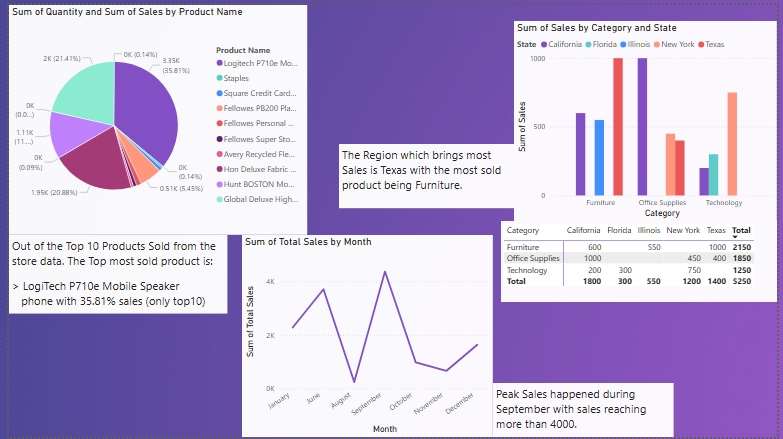

The dashboard page shown, as its layout file describes it:
{"tool":"powerbi","page":{"name":"Data","canvas":[1280,720],"ordinal":0},"visuals":[{"type":"pieChart","fields":{"Category":["Table.Product Name"],"Y":["Sum(Table.Quantity)","Sum(Table.Sales)"]},"box":[0,0,496.8,383],"z":0},{"type":"textbox","box":[0,383,364.3,131],"z":1000},{"type":"lineChart","fields":{"Category":["Table (2).Order Date.Variation.Date Hierarchy.Month"],"Y":["Sum(Table (2).Total Sales)"]},"box":[388.8,383,417.6,337],"z":2000},{"type":"clusteredColumnChart","fields":{"Category":["Table (3).Category"],"Y":["Sum(Table (3).Sales)"],"Series":["Table (3).State"]},"box":[842.4,25.9,437.8,334.1],"z":3000},{"type":"pivotTable","fields":{"Rows":["Table (3).Category"],"Values":["Sum(Table (3).Sales)"],"Columns":["Table (3).State"]},"box":[819.4,360,460.8,135.4],"z":4000},{"type":"textbox","box":[550.1,231.8,292.3,106.6],"z":5000},{"type":"textbox","box":[806.4,629.3,301,90.7],"z":6000}]}

Visuals, with their boxes in screenshot pixels (x1, y1, x2, y2), scaled from the page's 1280x720 canvas onto the 783x439 screenshot:
pieChart - Table.Product Name x Sum(Table.Quantity): (0,0,304,234)
textbox: (0,234,223,313)
lineChart - Table (2).Order Date.Variation.Date Hierarchy.Month x Sum(Table (2).Total Sales): (238,234,493,438)
clusteredColumnChart - Table (3).Category x Sum(Table (3).Sales): (515,16,782,220)
pivotTable - Table (3).Category x Sum(Table (3).Sales): (501,220,782,302)
textbox: (337,141,515,206)
textbox: (493,384,677,438)
